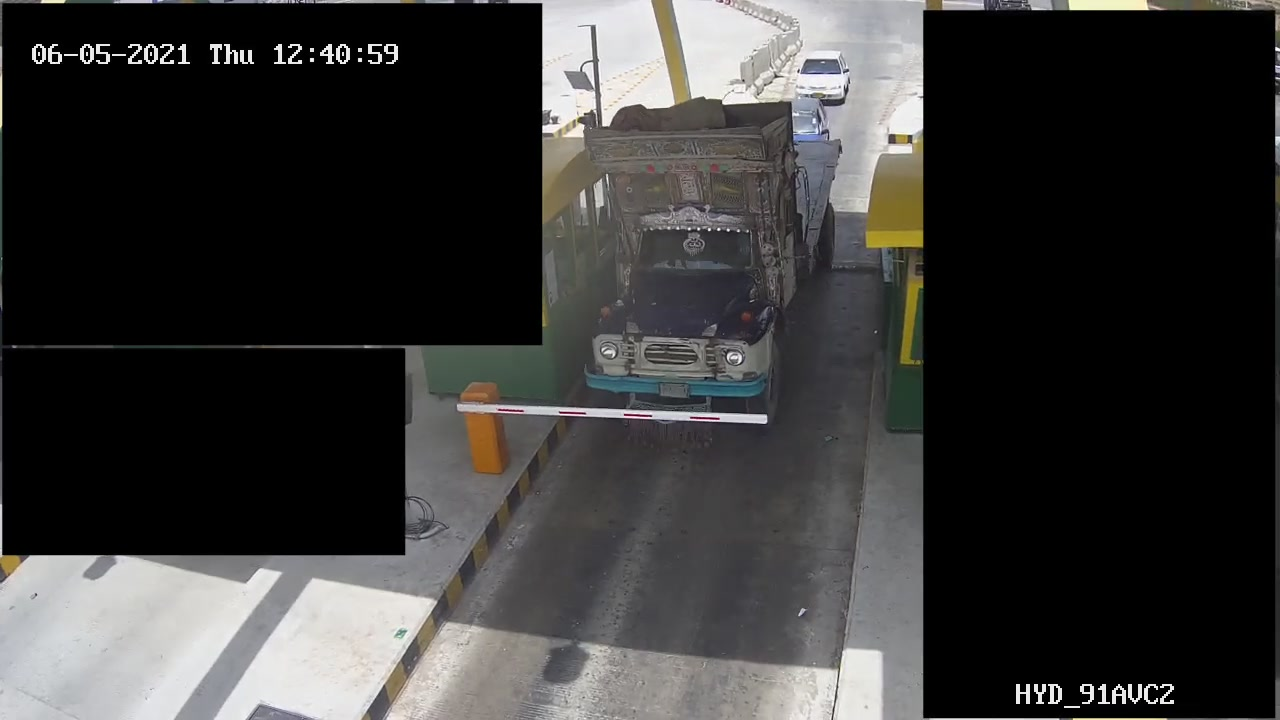F5: (578, 102, 842, 412)
